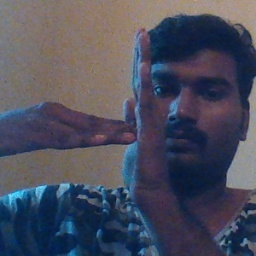Z: (57, 24, 174, 208)
